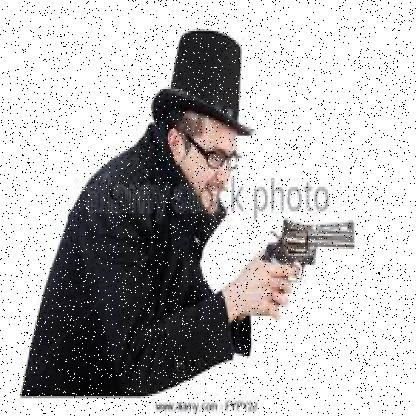pistol: (257, 205, 362, 327)
